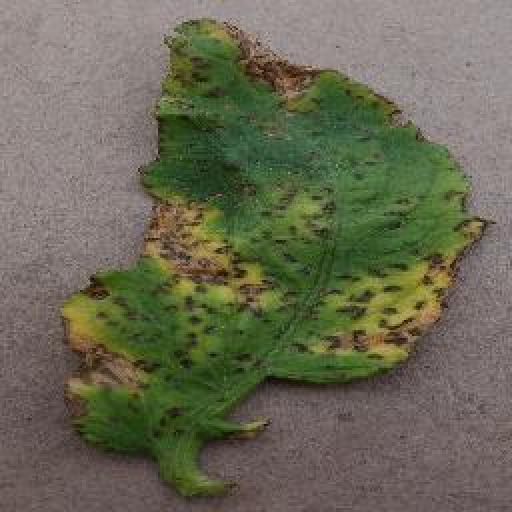Bacterial Spot: (60, 15, 497, 464)
